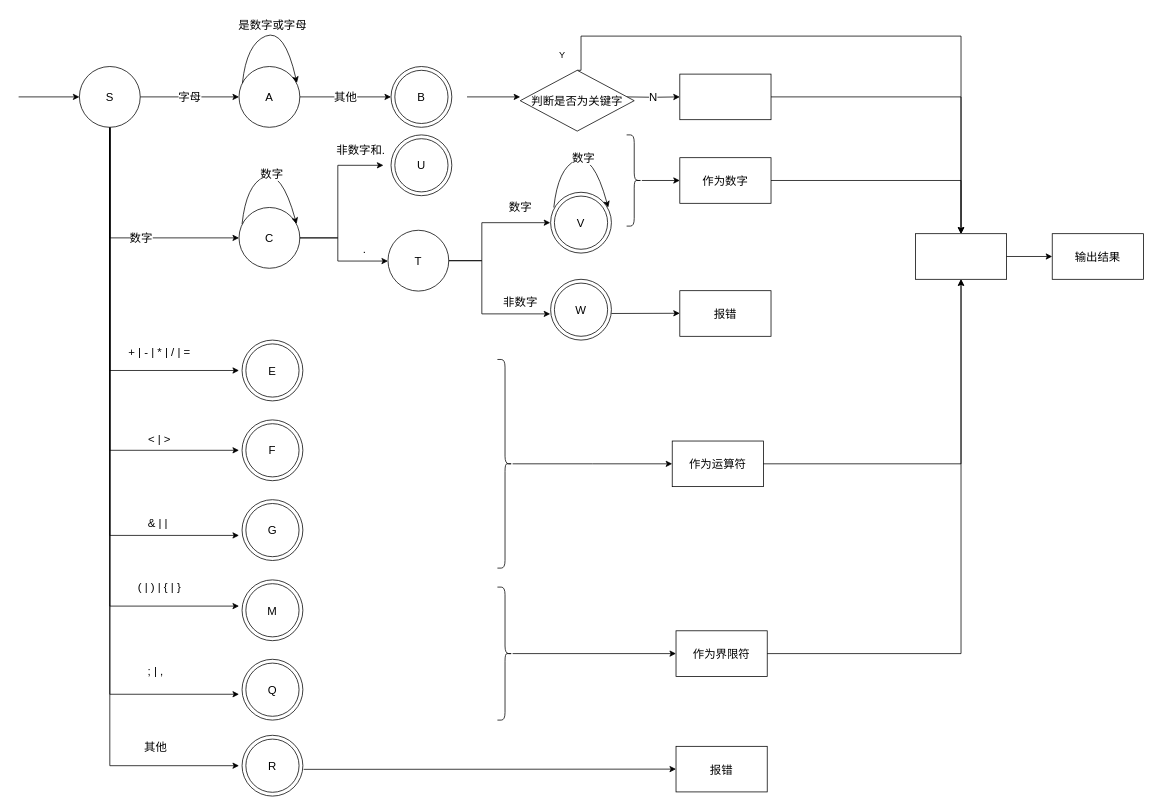
The diagram is 1157 pixels wide and 809 high, and some of its shapes have lost their labels. Each missing label, with the centre of its shape:
作为标识符: the point at 725,96
放到输出表中: the point at 961,256
